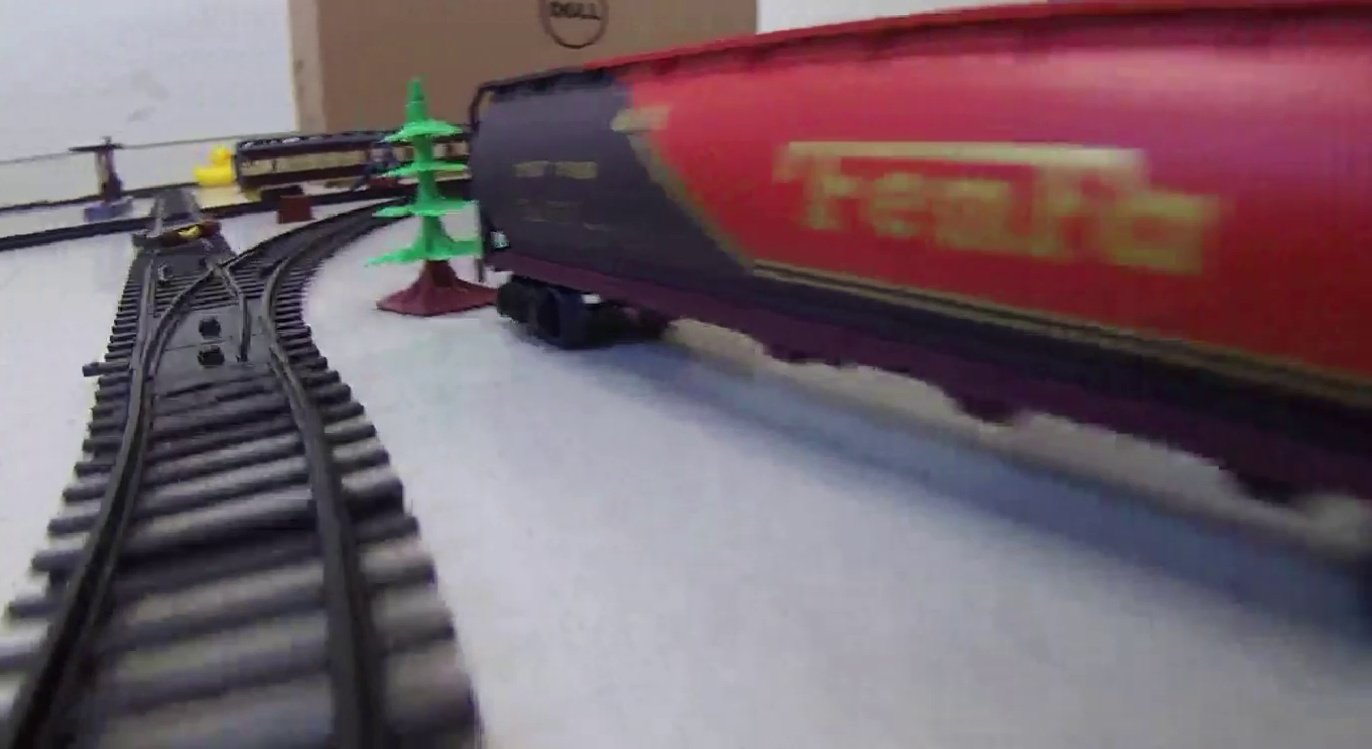tree: (366, 75, 478, 319)
